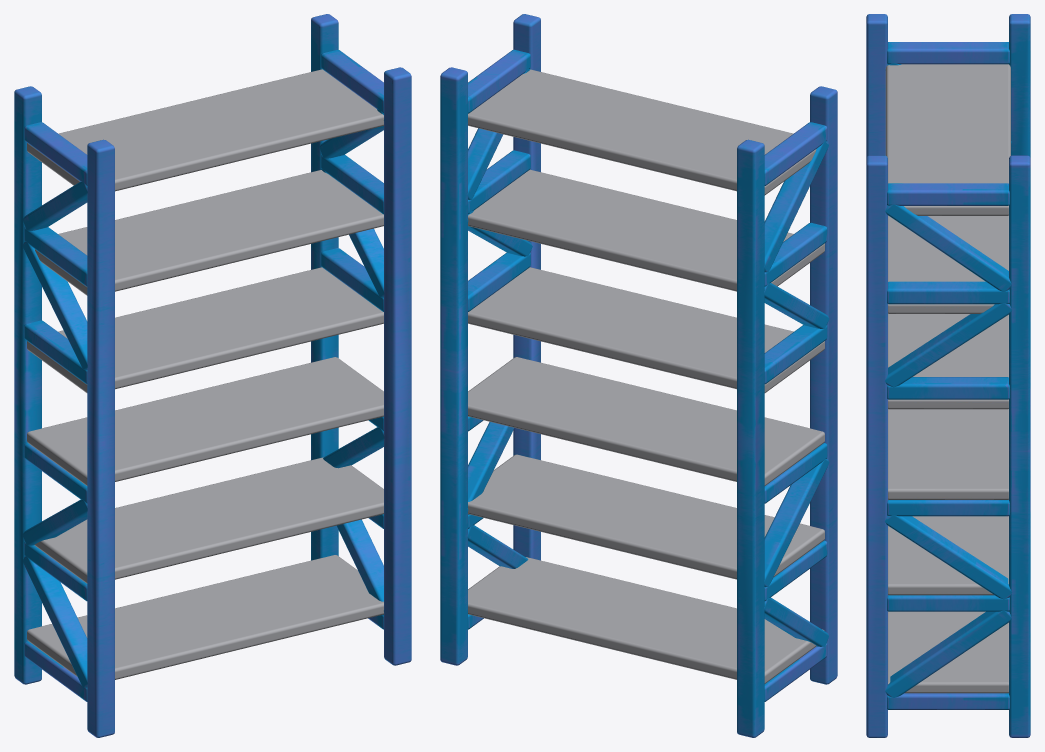
The model's file is shef_3.fbx.
3 views of the same model, side by side, from view 1: azimuth 30°, elevation 25°; view 2: azimuth 150°, elevation 25°; view 3: azimuth 270°, elevation 25° (orthographic). The views are drawn at different scales.
Visible parts, largest first — view 1: shelf_3; view 2: shelf_3; view 3: shelf_3.
Part boxes in pixels (bbox=[...]): shelf_3: bbox=[14, 14, 411, 737]; shelf_3: bbox=[440, 14, 837, 737]; shelf_3: bbox=[866, 14, 1030, 737].
Size of the model in its own units: 210 by 375 by 96.94.
